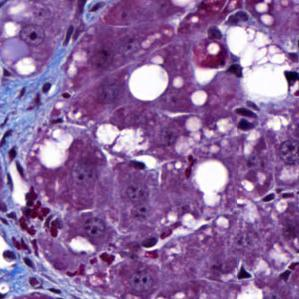ballooning: (224, 24, 295, 102)
